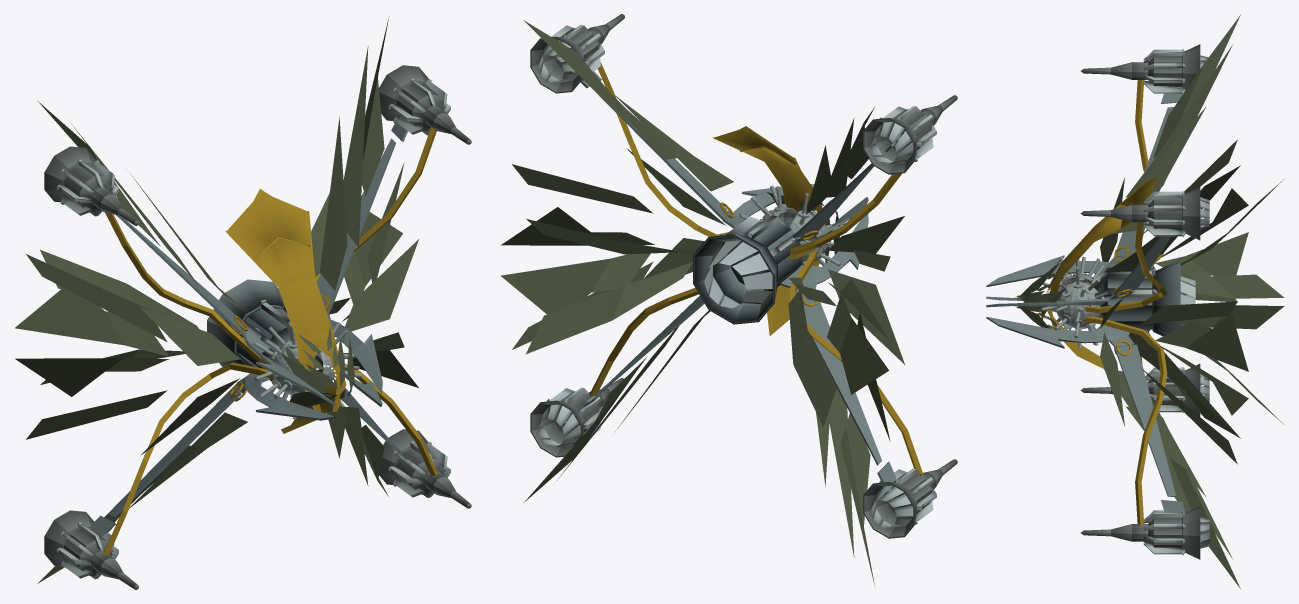
Rendered from EnemySniper.fbx.
The picture shows the model from 3 angles, left to right: view 1: azimuth 30°, elevation 25°; view 2: azimuth 150°, elevation 25°; view 3: azimuth 270°, elevation 25°; orthographic projection. The views are drawn at different scales.
Visible parts, largest first — view 1: Cylinder.010, Cylinder.012, Cylinder.004, Cylinder, Sphere.001, Cylinder.006, Sphere; view 2: Cylinder.010, Cylinder.012, Cylinder.004, Cylinder.006, Sphere.001, Cylinder, Cylinder.009, Sphere, Cylinder.008; view 3: Cylinder.010, Cylinder.012, Cylinder.004, Sphere.001, Cylinder.006, Cylinder, Sphere, Cylinder.008, Cylinder.009.
Part boxes in pixels (box(x1,y1,x2,y2)): Cylinder.010: box(15, 16, 418, 583); Cylinder.012: box(44, 65, 471, 589); Cylinder.004: box(91, 117, 410, 536); Cylinder: box(225, 189, 346, 433); Sphere.001: box(103, 127, 437, 555); Cylinder.006: box(207, 279, 322, 381); Sphere: box(253, 322, 362, 419); Cylinder.010: box(501, 20, 904, 587); Cylinder.012: box(530, 14, 957, 538); Cylinder.004: box(566, 71, 899, 500); Cylinder.006: box(693, 220, 801, 324); Sphere.001: box(589, 62, 923, 476); Cylinder: box(712, 126, 830, 335); Cylinder.009: box(704, 240, 772, 308); Sphere: box(739, 185, 845, 266); Cylinder.008: box(720, 215, 795, 256); Cylinder.010: box(1016, 15, 1284, 588); Cylinder.012: box(1080, 44, 1209, 559); Cylinder.004: box(986, 86, 1185, 512); Sphere.001: box(1083, 80, 1167, 525); Cylinder.006: box(1095, 259, 1180, 336); Cylinder: box(1041, 175, 1158, 368); Sphere: box(1040, 256, 1104, 348); Cylinder.008: box(1091, 266, 1157, 298); Cylinder.009: box(1180, 276, 1195, 326).
Size of the model in its own units: 8.83 by 10.51 by 6.69.
